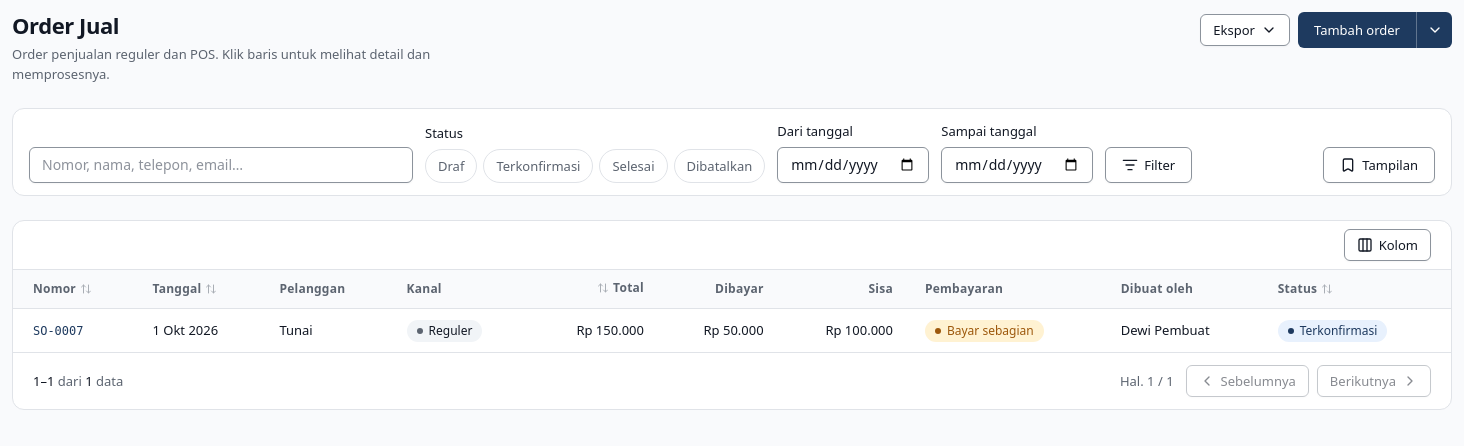
Test: daftar order jual › sortir lewat header kolom menyinkronkan URL dan select Urutkan sudah dihapus
Expected: the text "SO-0007" is shown, [33, 320, 83, 340]
Click the button "Total" at (621,288), box [597, 280, 644, 296]
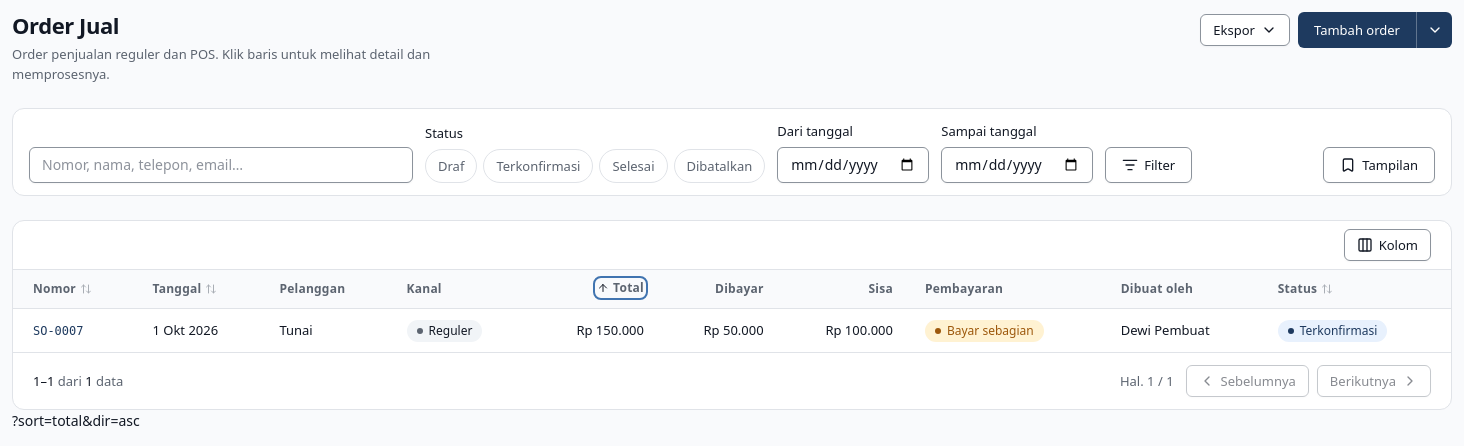
Expected: the text with test id "search" shows "sort=total", [12, 410, 140, 430]
